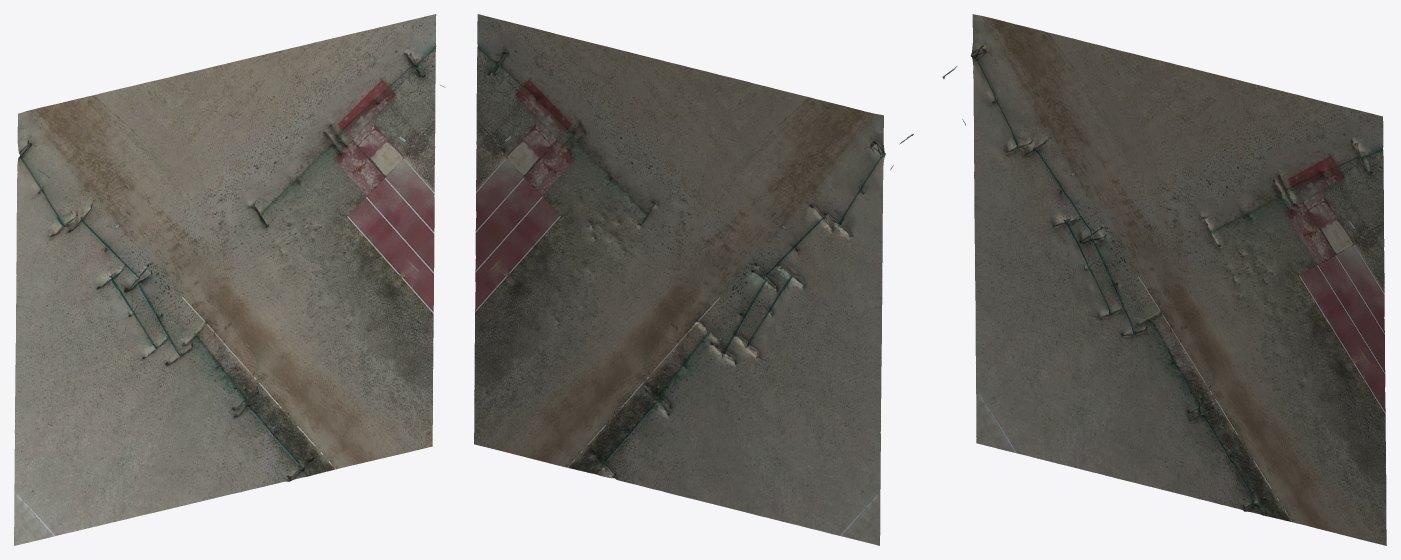
The model's file is Tile_+021_+013.fbx.
3 renders of one model, left to right at view 1: azimuth 30°, elevation 25°; view 2: azimuth 150°, elevation 25°; view 3: azimuth 330°, elevation 25°, orthographic.
Visible parts, largest first — view 1: DefaultName; view 2: DefaultName; view 3: DefaultName.
Part boxes in pixels (x1,y1,x2,y2): DefaultName: (14, 14, 445, 545); DefaultName: (474, 14, 913, 545); DefaultName: (942, 14, 1386, 545).
Size of the model in its own units: 22.54 by 22.54 by 3.48.
